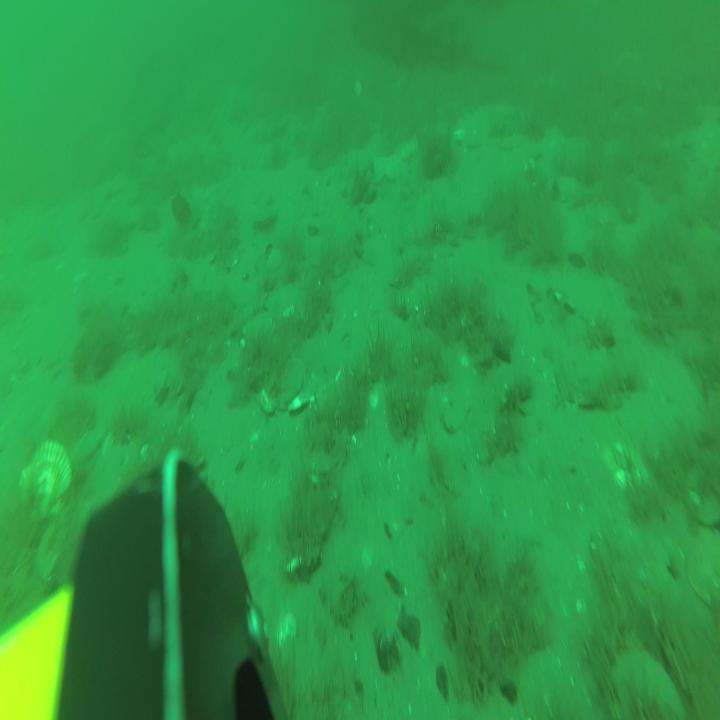scallop: (606, 642, 684, 720), (20, 440, 70, 516), (681, 519, 720, 610), (258, 363, 303, 412), (544, 171, 580, 205), (254, 204, 277, 228), (400, 135, 419, 158), (354, 81, 362, 100)
starfish: (371, 149, 406, 187)
